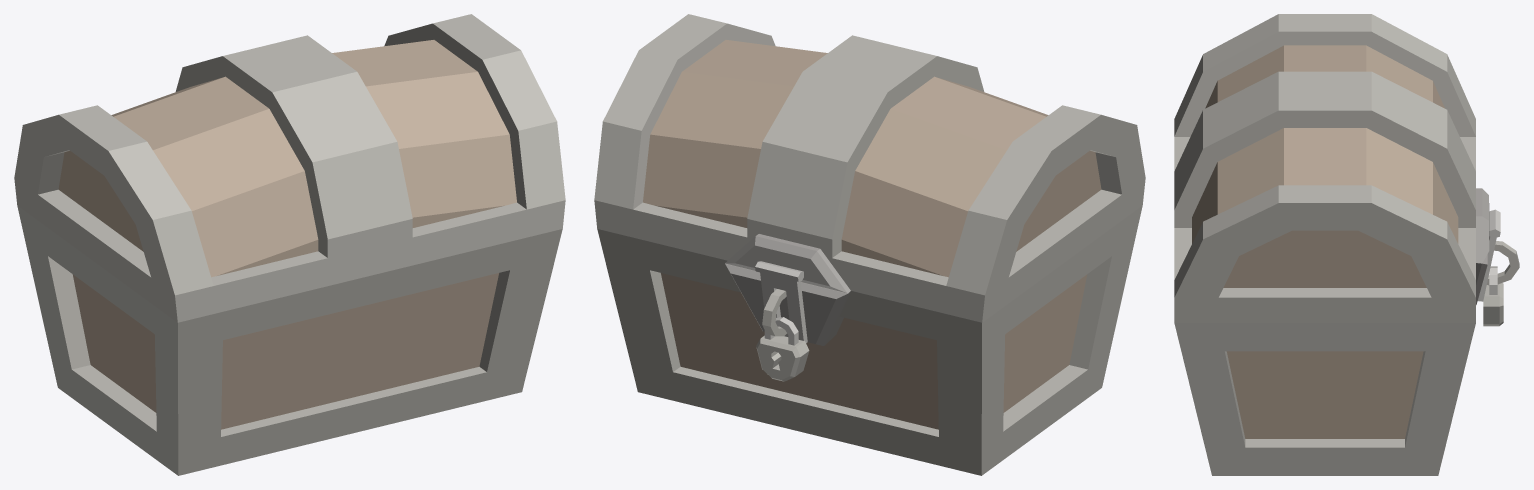
The model's file is Beach_Prop_Treasure_Chest.glb.
The picture shows the model from 3 angles, left to right: view 1: azimuth 30°, elevation 25°; view 2: azimuth 150°, elevation 25°; view 3: azimuth 270°, elevation 25°; orthographic projection. The views are drawn at different scales.
Parts seen in each view (by area): view 1: Beach_Prop_Treasure_Chest; view 2: Beach_Prop_Treasure_Chest; view 3: Beach_Prop_Treasure_Chest.
Boxes of the visible parts, x1=… form: Beach_Prop_Treasure_Chest: x1=14, y1=14, x2=565, y2=475; Beach_Prop_Treasure_Chest: x1=594, y1=14, x2=1145, y2=475; Beach_Prop_Treasure_Chest: x1=1174, y1=14, x2=1519, y2=475.
Bounding box in the file's own units: 0.9714 × 0.7334 × 0.7495.
